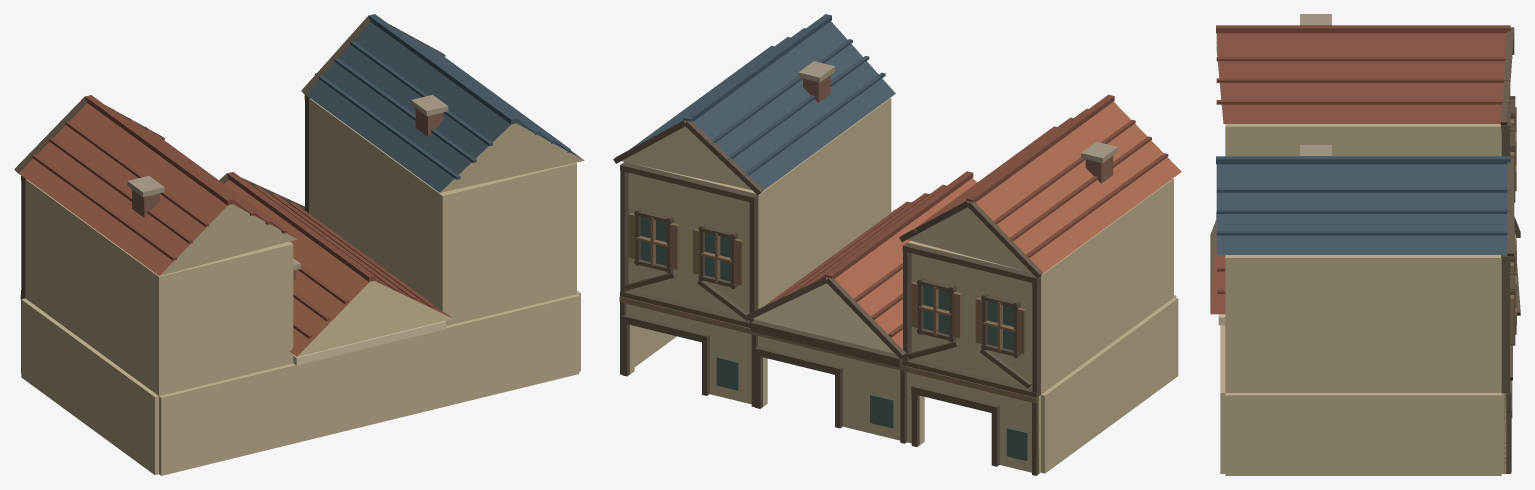
The model's file is WalkTown_RowB_Cover.fbx.
The picture shows the model from 3 angles, left to right: view 1: azimuth 30°, elevation 25°; view 2: azimuth 150°, elevation 25°; view 3: azimuth 270°, elevation 25°; orthographic projection. The views are drawn at different scales.
Visible parts, largest first — view 1: OpenBuildings_WalkTown_RowB_Cover; view 2: OpenBuildings_WalkTown_RowB_Cover; view 3: OpenBuildings_WalkTown_RowB_Cover.
Boxes of the visible parts, x1=… form: OpenBuildings_WalkTown_RowB_Cover: x1=14, y1=14, x2=584, y2=475; OpenBuildings_WalkTown_RowB_Cover: x1=613, y1=14, x2=1181, y2=475; OpenBuildings_WalkTown_RowB_Cover: x1=1210, y1=14, x2=1520, y2=475.
Bounding box in the file's own units: 11.48 × 6.98 × 6.97.
